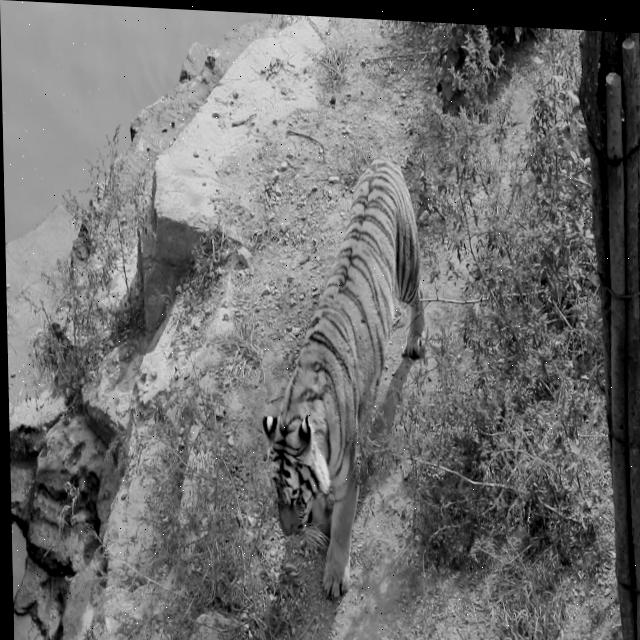Tiger: (256, 149, 434, 607)
